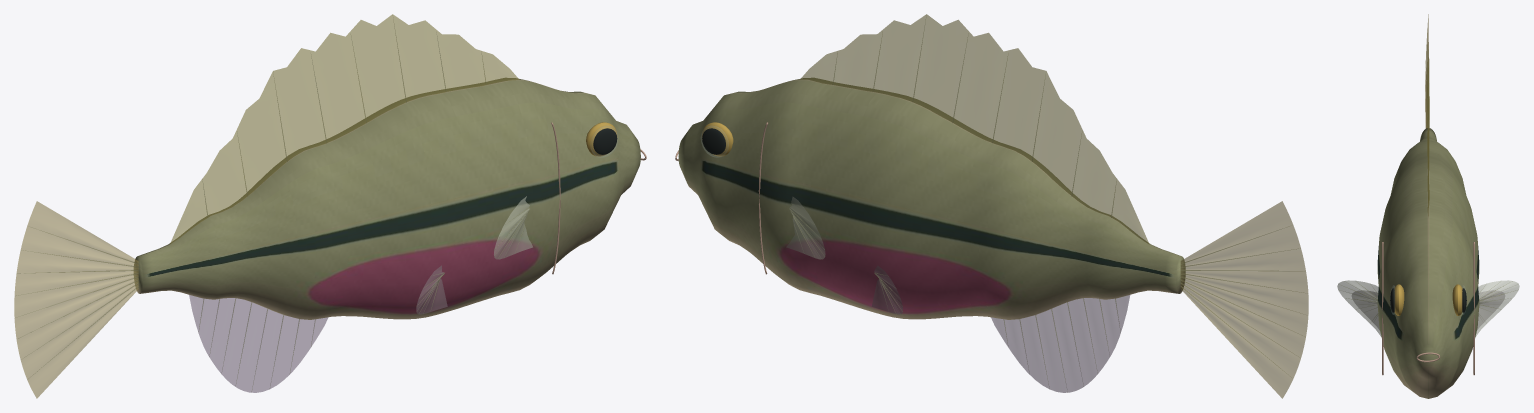
File: krib-mobile.glb
3 views of the same model, side by side, from view 1: azimuth 30°, elevation 25°; view 2: azimuth 150°, elevation 25°; view 3: azimuth 270°, elevation 25° (orthographic). The views are drawn at different scales.
Visible parts, largest first — view 1: skin, dorsal, tail, anal, dorsal-ray, pectoral-left, pelvic-left; view 2: skin, dorsal, tail, anal, dorsal-ray, pectoral-left, pelvic-left; view 3: skin, pectoral-left, pelvic-left, operculum, eye-iris--1, dorsal, tail, dorsal-ray, eye-pupil--1.
Part boxes in pixels (box(x1,y1,x2,y2)): skin: box(134, 78, 640, 319); dorsal: box(170, 14, 519, 244); tail: box(14, 201, 138, 398); anal: box(189, 295, 327, 392); dorsal-ray: box(16, 15, 529, 391); pectoral-left: box(494, 196, 532, 259); pelvic-left: box(416, 265, 447, 314); skin: box(678, 78, 1185, 319); dorsal: box(800, 14, 1149, 244); tail: box(1180, 201, 1308, 398); anal: box(991, 295, 1130, 392); dorsal-ray: box(789, 15, 1305, 388); pectoral-left: box(786, 197, 825, 259); pelvic-left: box(872, 265, 902, 314); skin: box(1377, 128, 1479, 398); pectoral-left: box(1337, 280, 1519, 336); pelvic-left: box(1352, 290, 1504, 329); operculum: box(1382, 242, 1474, 375); eye-iris--1: box(1394, 284, 1462, 315); dorsal: box(1427, 49, 1429, 216); tail: box(1425, 14, 1429, 128); dorsal-ray: box(1339, 46, 1517, 321); eye-pupil--1: box(1390, 288, 1466, 312).
Bounding box in the file's own units: 0.5972 × 0.3166 × 0.1718.
11 materials, 1 textured.
